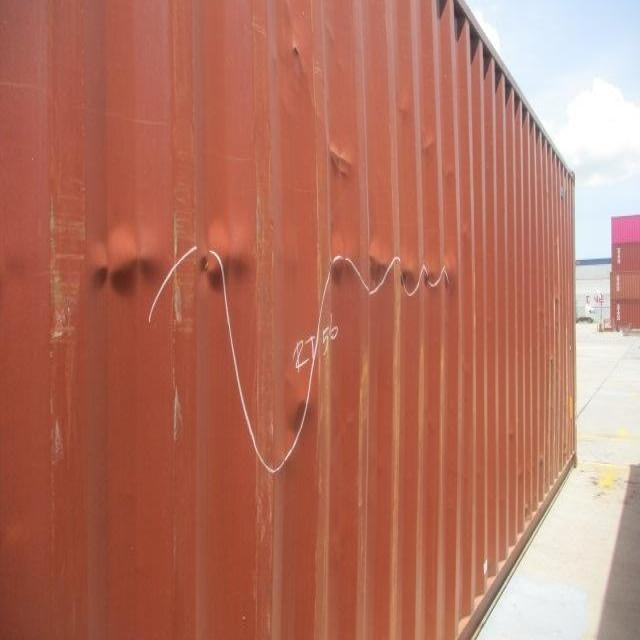dent: (80, 212, 262, 306), (323, 237, 463, 301), (274, 372, 321, 462), (322, 136, 365, 188)
